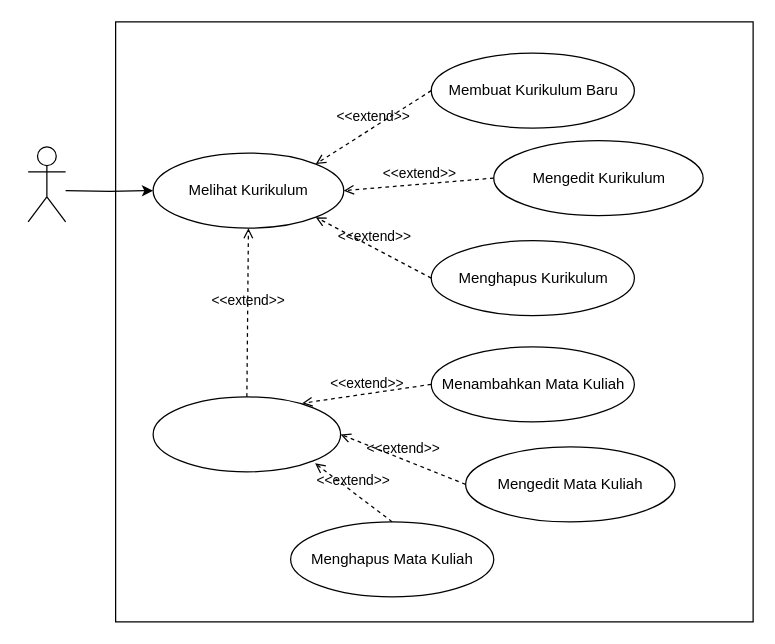
Some shapes in this 775 by 644 pixel diagram are drawn without their labels. The shapes that lost their labels are listed below. From the top down, each one's centre as x and y in pixels, then its label:
point (46, 184): Kaprodi
point (246, 434): Melihat Mata Kuliah
